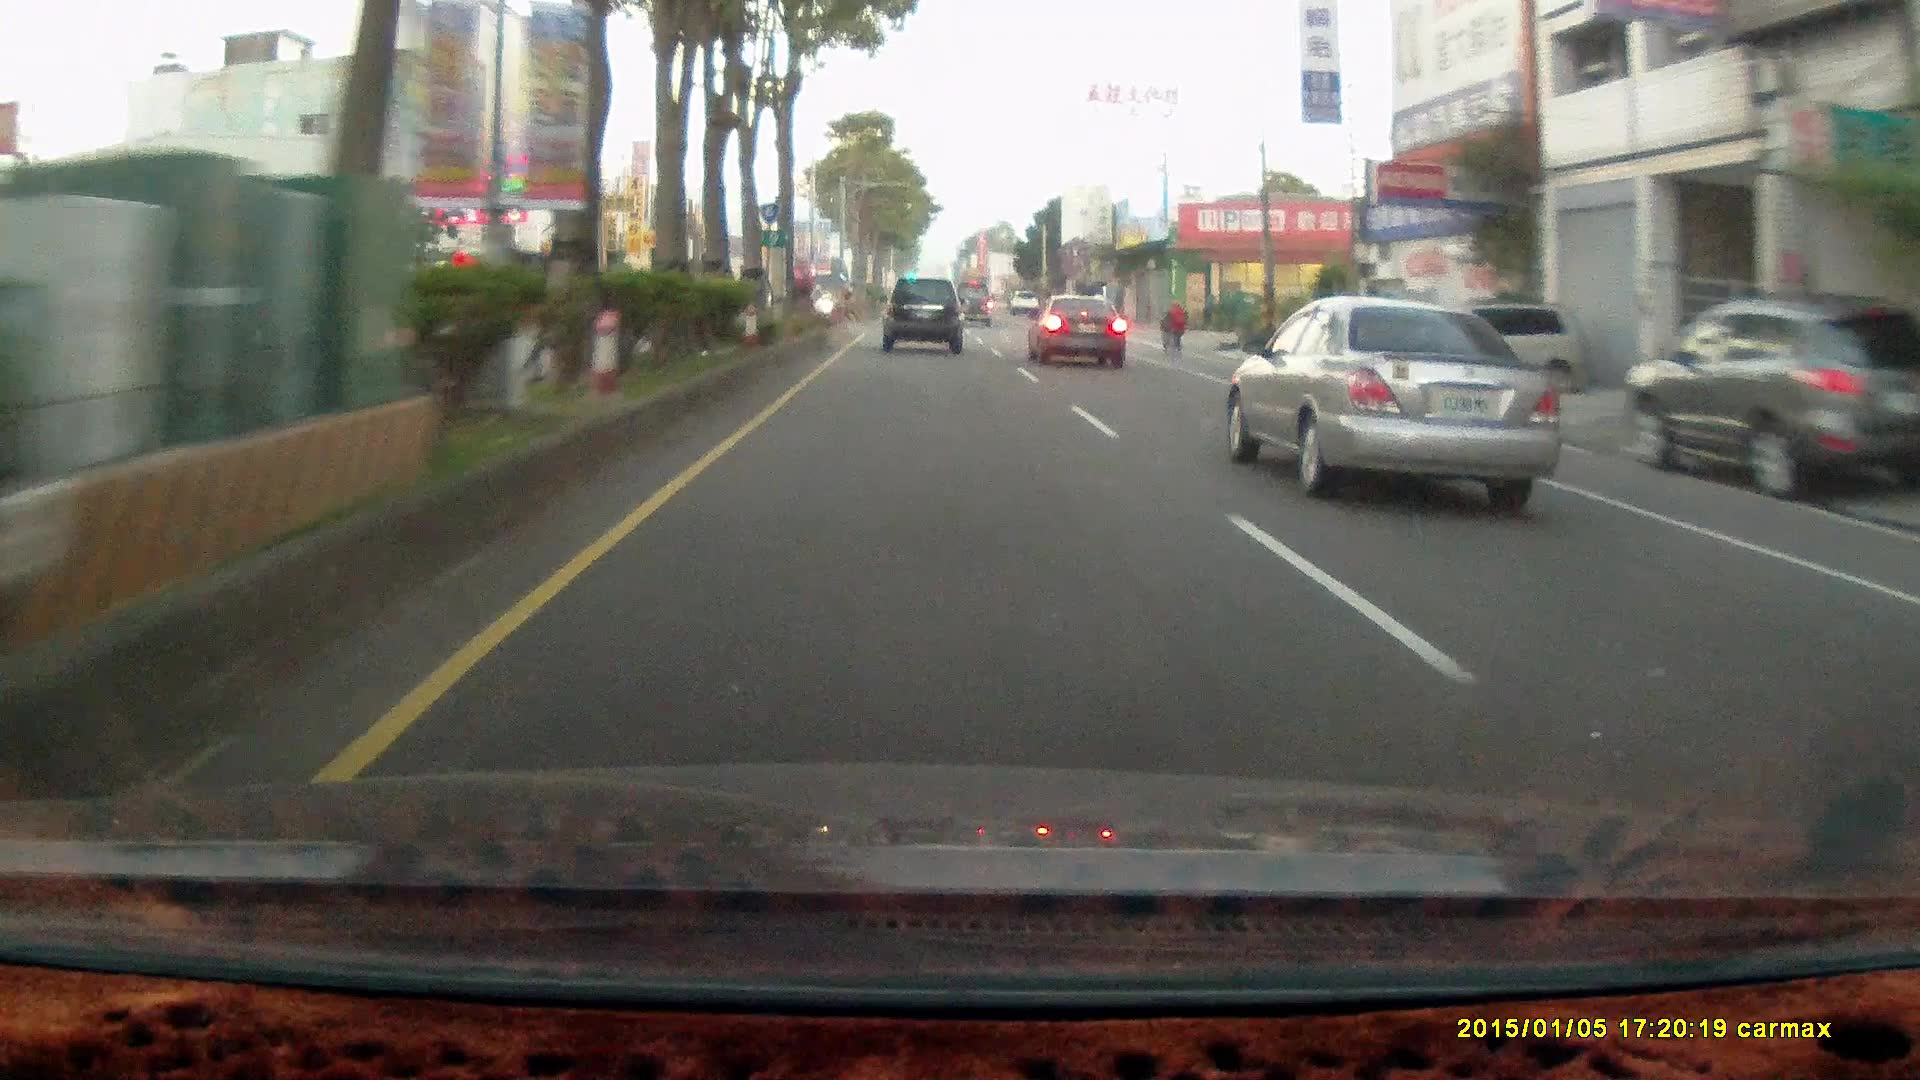pedestrian: (1166, 298, 1188, 353), (1168, 300, 1189, 353)
vehicle: (1233, 297, 1562, 494), (1625, 295, 1920, 506), (1621, 295, 1920, 499), (1396, 299, 1587, 395), (1025, 298, 1131, 374), (1026, 292, 1126, 368), (881, 280, 969, 355), (881, 278, 962, 353), (955, 283, 994, 329)
